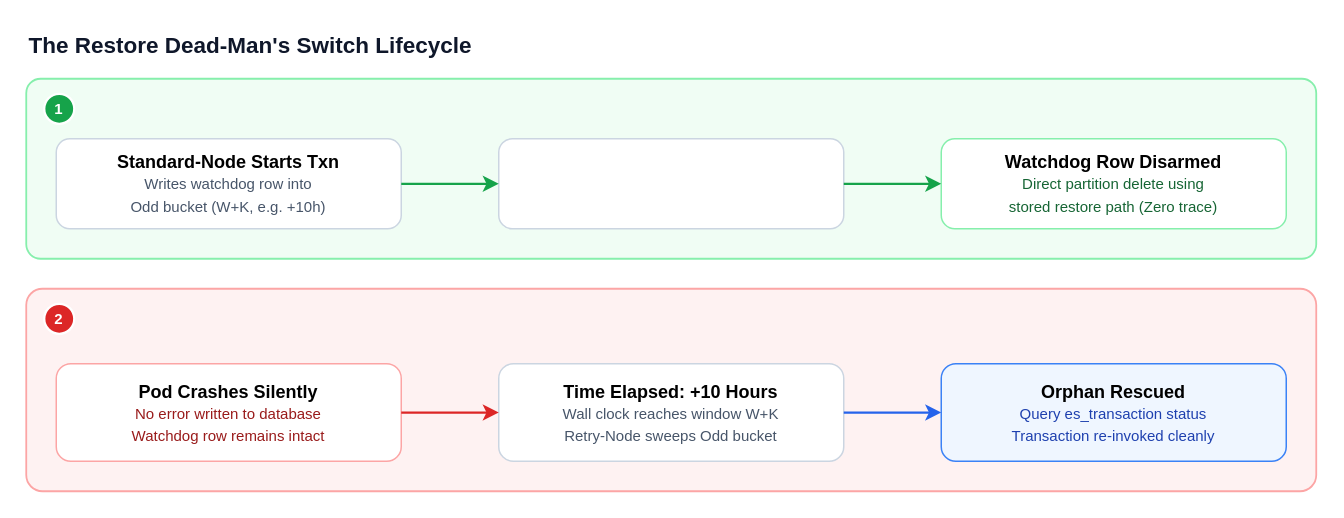
This 1344x518 diagram has some shape labels left out. The shapes that lost their labels are listed below. From the top down, each one's box as (x1, y1, x2, y2) in pixels, then its label:
(25, 77, 1316, 259): PATH A: Normal Completion (99.9% of transactions)
(497, 137, 844, 229): Saga Executes Cleanly All steps finish in 200ms Order confirmed
(25, 287, 1316, 491): PATH B: Silent Pod Crash (Power outage, OOM kill, ungraceful termination)
